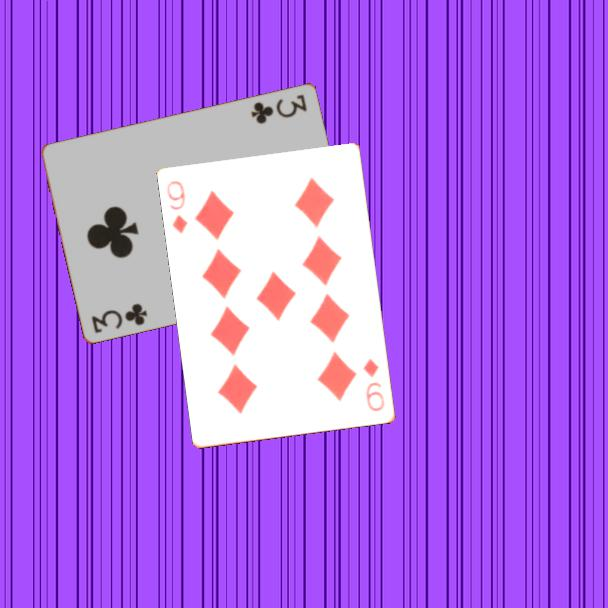c03: (248, 90, 310, 127), (88, 300, 150, 336)
d09: (163, 177, 191, 237), (360, 355, 388, 414)
